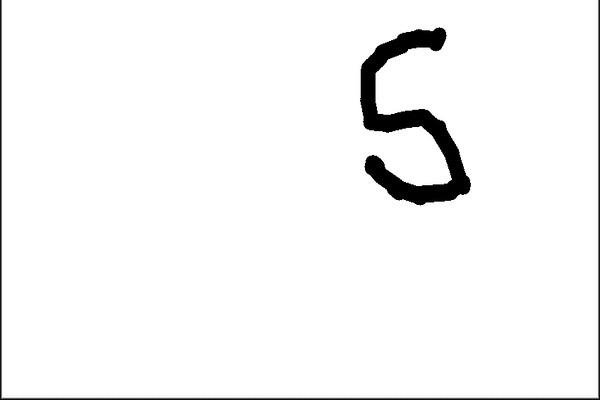S: (346, 18, 480, 212)
